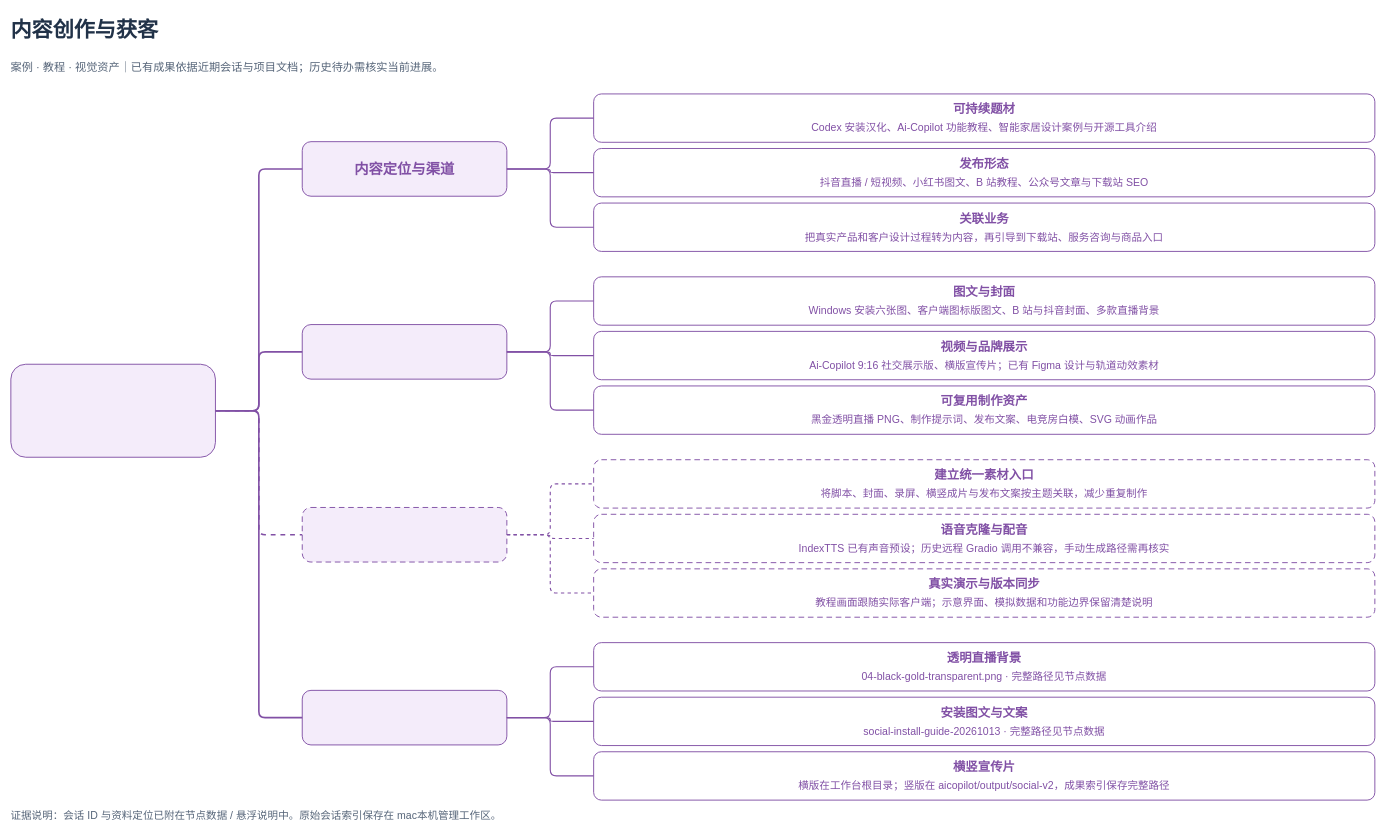
The diagram is 1386 pixels wide and 838 high, and some of its shapes have lost their labels. The centre of each missing label's shape, as x and y in pixels:
"内容创作与获客 案例 · 教程 · 视觉资产" goes at point (113, 410).
"已有成果 · 记录依据" goes at point (404, 351).
"接续重点 · 需核实" goes at point (404, 534).
"资料与关联项目" goes at point (404, 717).
